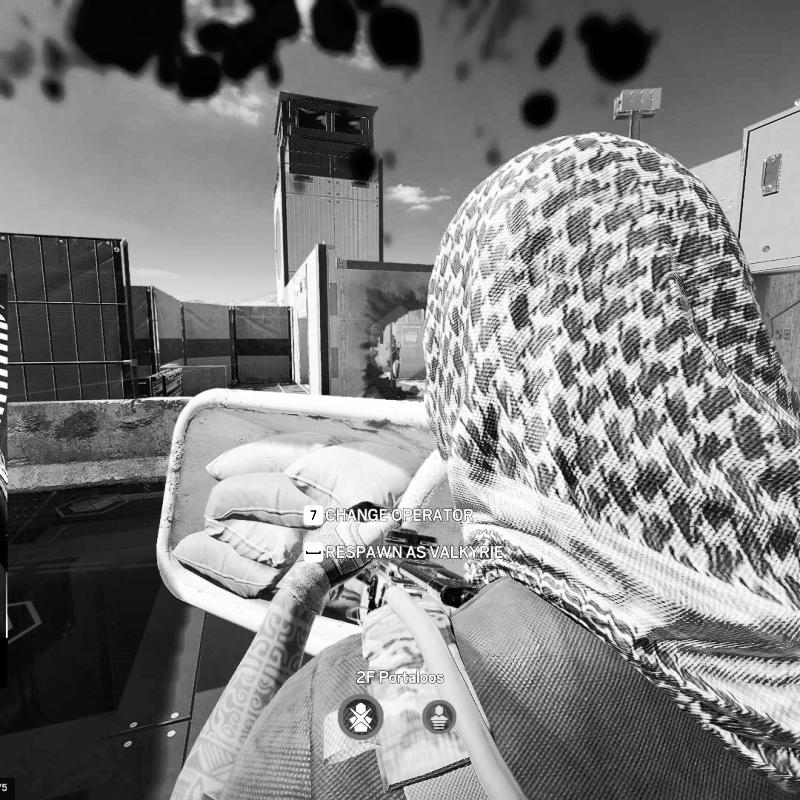Character: (175, 125, 800, 800), (386, 333, 402, 381)
Head: (420, 141, 800, 576), (390, 335, 397, 342)
